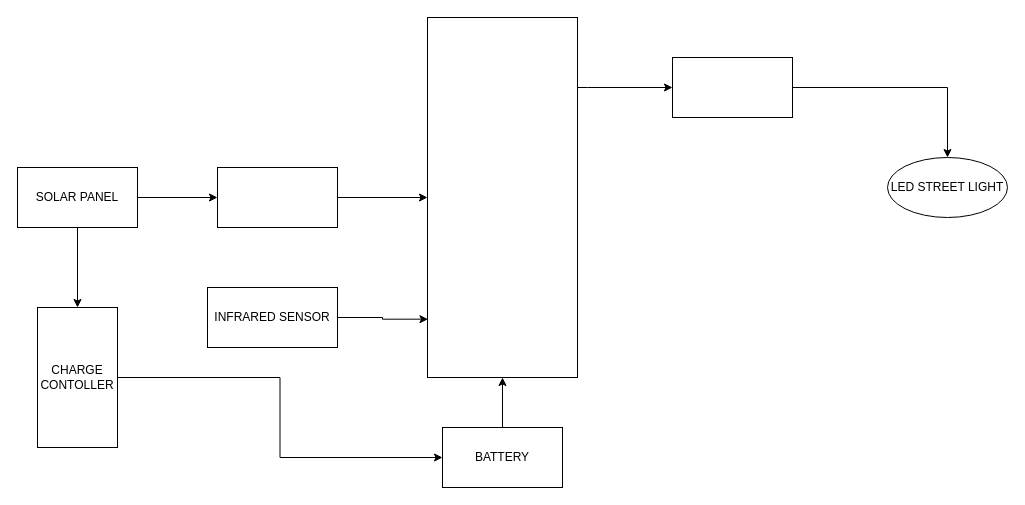
The diagram is 1025 pixels wide and 505 high, and some of its shapes have lost their labels. Each missing label, with the box of its shape:
LED DRIVING CIRCUIT: (672, 56, 792, 118)
LIGHT/DARK SENSOR: (216, 166, 338, 228)
M I C R O C O N T R O L L E R: (426, 16, 578, 378)
